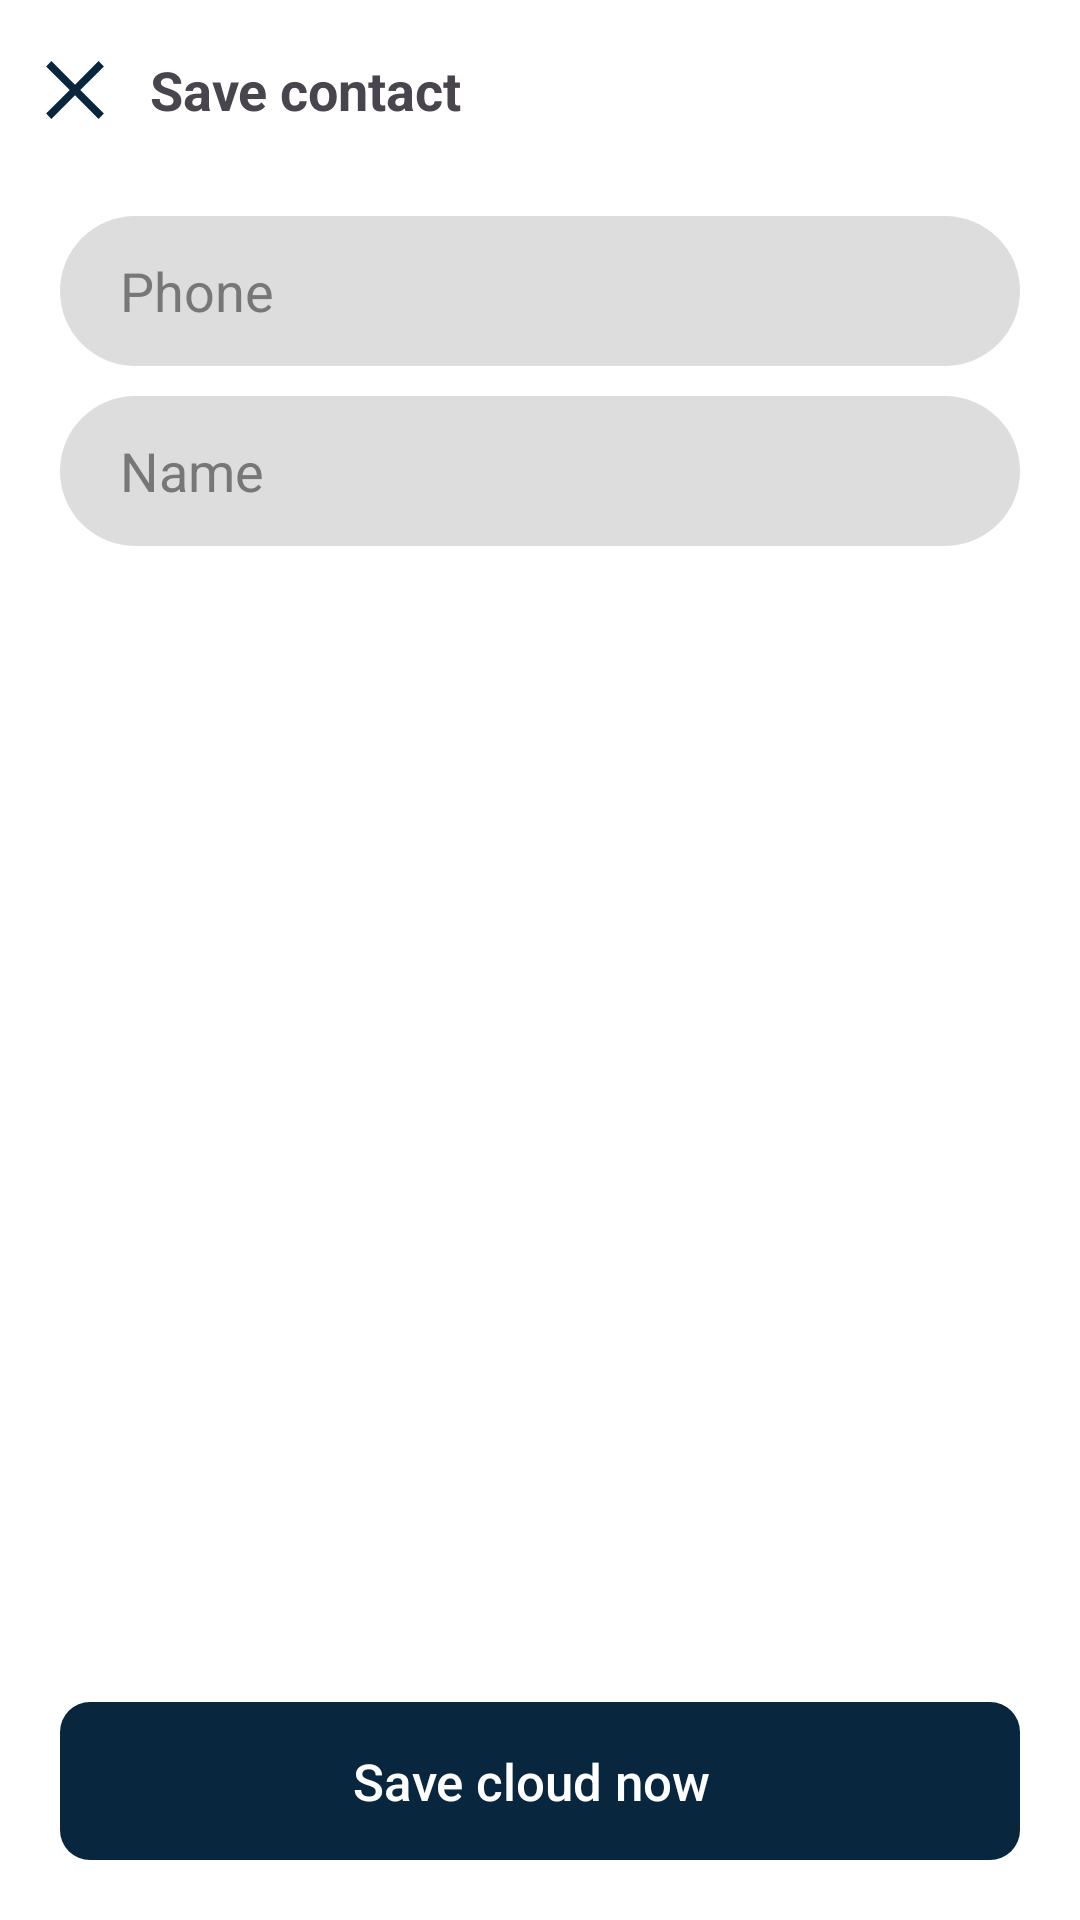

Icon click points for this 1080w x 1920h phone screenshot, format (x=x, y=y):
Back to previous screen: (x=75, y=90)
